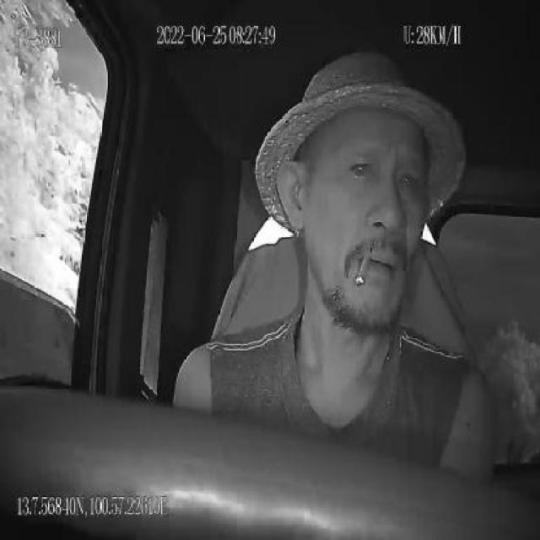smoking: (354, 251, 373, 287)
